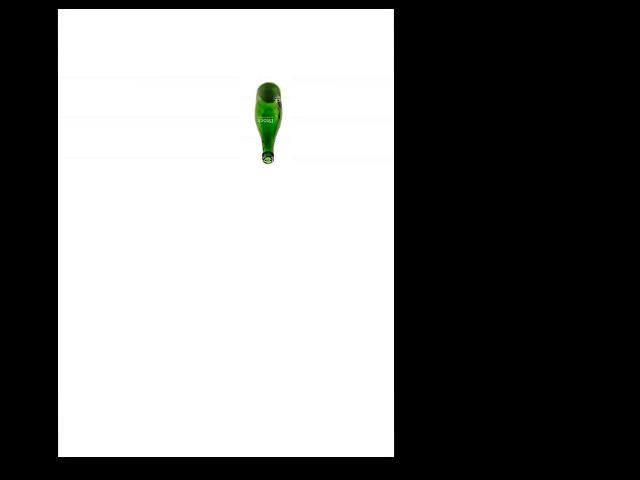beer: (254, 82, 282, 164)
